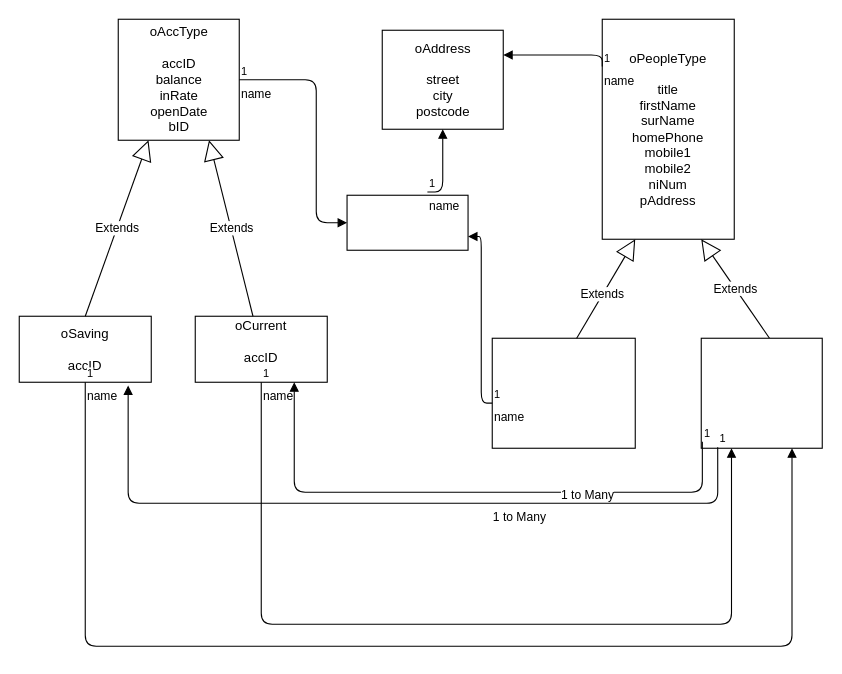
The diagram is 842 pixels wide and 674 high, and some of its shapes have lost their labels. Here are the shapes that lost their labels. From the top down, the box of each, then its label:
(346, 194, 468, 250): oBranch bID bPhone
(491, 337, 635, 448): oEmployee empID position salary bID joinDate
(700, 337, 822, 448): oCustomer cID
